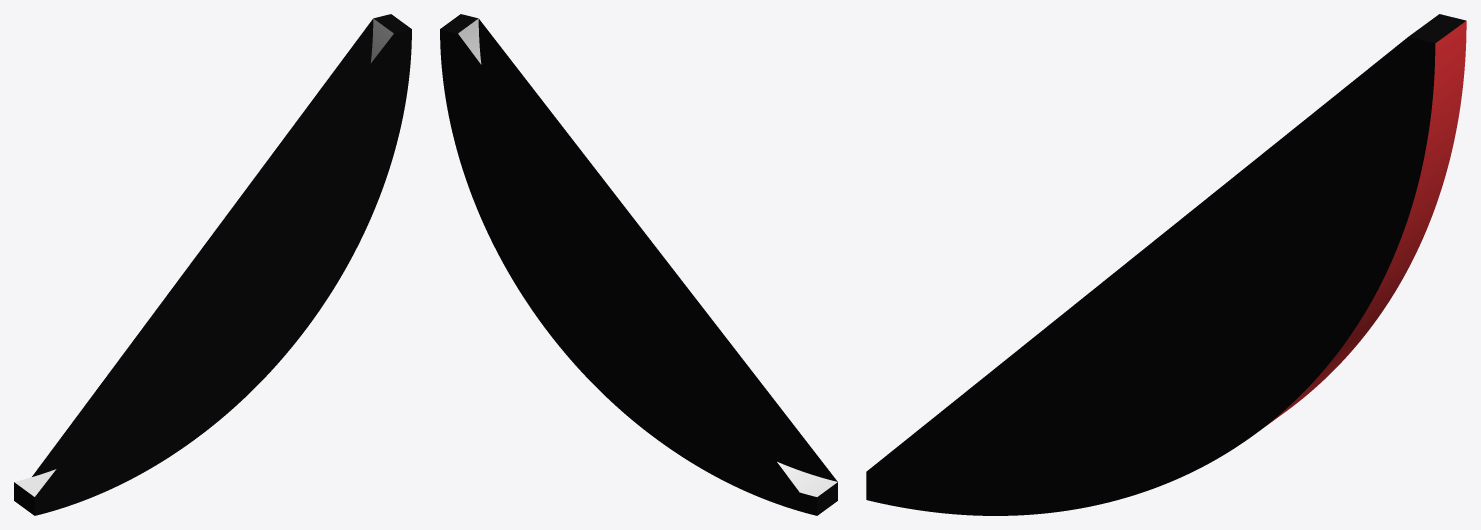
The picture shows the model from 3 angles, left to right: view 1: azimuth 30°, elevation 25°; view 2: azimuth 150°, elevation 25°; view 3: azimuth 330°, elevation 25°; orthographic projection. The views are drawn at different scales.
Parts seen in each view (by area): view 1: UP_3; view 2: UP_3; view 3: UP_3.
Boxes of the visible parts, box(x1,y1,x2,y2) form: UP_3: box(14, 14, 411, 515); UP_3: box(440, 14, 837, 515); UP_3: box(866, 14, 1466, 515).
Bounding box in the file's own units: 2100 × 2100 × 200.
